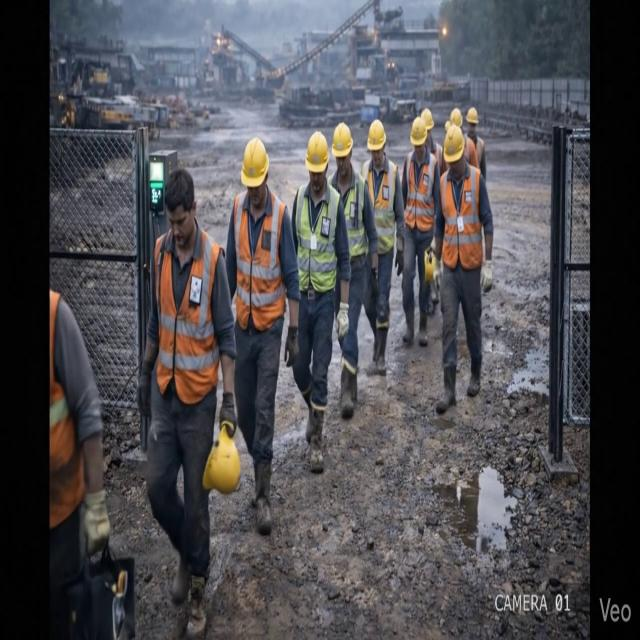Vest: (154, 230, 220, 404), (50, 290, 84, 528), (234, 192, 285, 331), (296, 183, 339, 293), (441, 166, 482, 270), (361, 160, 396, 255), (405, 152, 436, 231), (344, 172, 368, 259), (464, 136, 478, 167), (475, 137, 484, 167)
Worker: (138, 168, 236, 639), (226, 138, 299, 535), (50, 289, 110, 639), (292, 131, 350, 472), (434, 125, 493, 413), (331, 123, 377, 418), (361, 120, 404, 375), (402, 117, 439, 346), (450, 108, 478, 167), (466, 107, 486, 180), (421, 108, 443, 174)
helmet: (203, 422, 240, 494), (241, 138, 268, 187), (306, 131, 328, 173), (443, 123, 464, 163), (332, 123, 352, 157), (368, 119, 386, 151), (411, 117, 426, 146), (424, 250, 435, 283), (421, 109, 434, 131), (450, 108, 462, 127), (466, 107, 478, 124)
